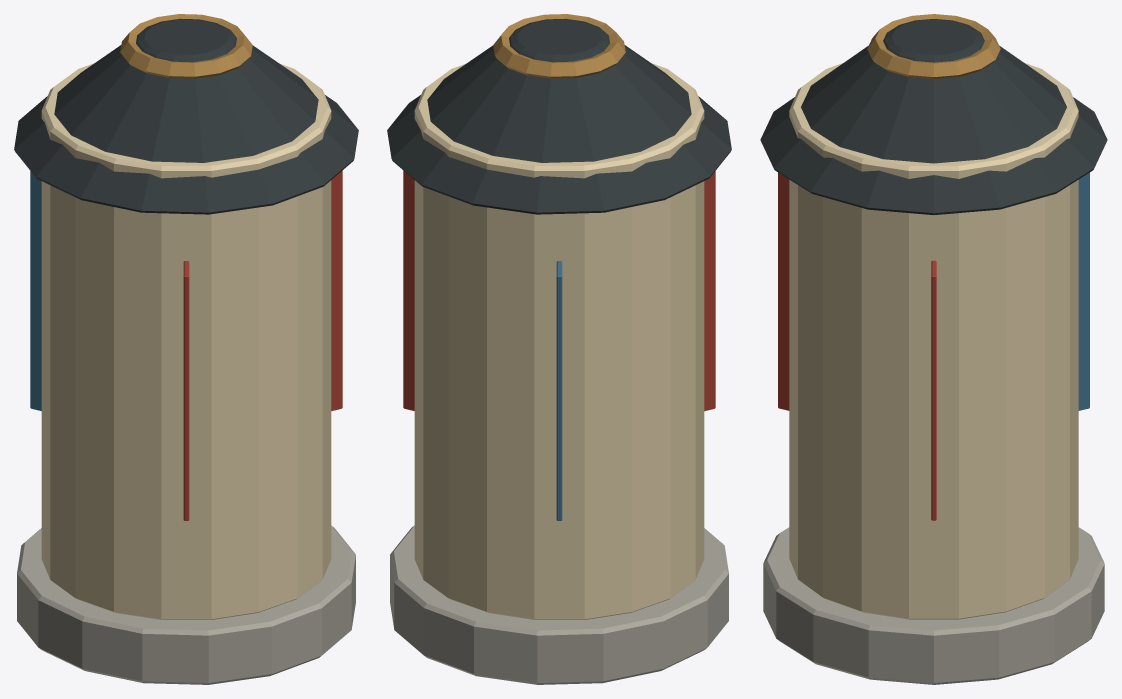
The model's file is runtime.glb.
The picture shows the model from 3 angles, left to right: view 1: azimuth 30°, elevation 25°; view 2: azimuth 150°, elevation 25°; view 3: azimuth 270°, elevation 25°; orthographic projection.
Parts seen in each view (by area): view 1: eiffel-historic-information-v01_nocol; view 2: eiffel-historic-information-v01_nocol; view 3: eiffel-historic-information-v01_nocol.
Boxes of the visible parts, <box> form: eiffel-historic-information-v01_nocol: <box>14,14,358,684</box>; eiffel-historic-information-v01_nocol: <box>387,14,731,684</box>; eiffel-historic-information-v01_nocol: <box>760,14,1107,684</box>.
Size of the model in its own units: 1.65 by 2.97 by 1.62.
